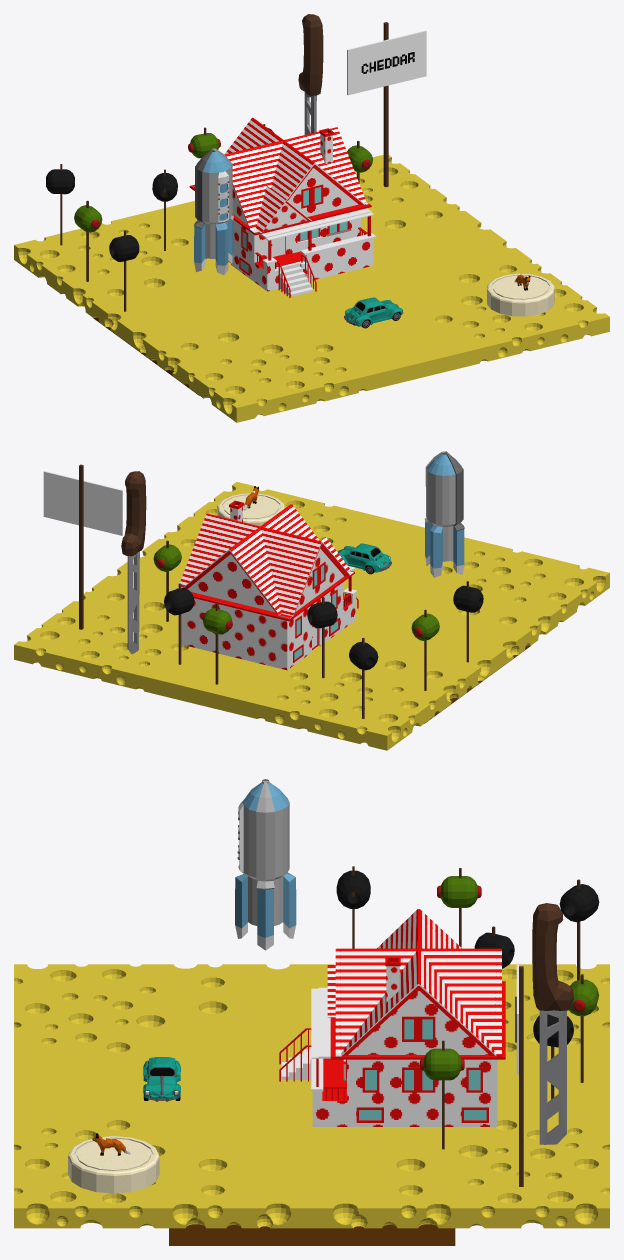
3 renders of one model, top to bottom at view 1: azimuth 30°, elevation 25°; view 2: azimuth 150°, elevation 25°; view 3: azimuth 270°, elevation 25°, orthographic. The views are drawn at different scales.
Visible parts, largest first — view 1: Cube.022, Cube.196, Cube.023, OBJRANDOM_ROCKETSHIP, Cylinder.016, Cube.024, VEHICLES_VOLKSWAGEN, Sphere.017, Sphere.016, Sphere.018, Sphere.020, Sphere.022 (+1 smaller); view 2: Cube.022, Cube.196, OBJRANDOM_ROCKETSHIP, Cube.023, Cube.024, Cylinder.016, VEHICLES_VOLKSWAGEN, Sphere.021, Sphere.022, Sphere.020, Sphere.017, Sphere.016 (+2 smaller); view 3: Cube.022, Cube.196, OBJRANDOM_ROCKETSHIP, Cube.024, UNDERGROUND_ART_PIECE_VAN_GOGH, Cylinder.016, VEHICLES_VOLKSWAGEN, Cube.023, Sphere.019, Sphere.016, Sphere.018, Sphere.017 (+3 smaller).
Boxes of the visible parts, x1,y1,x2,y2 form: Cube.022: (14, 155, 609, 422); Cube.196: (189, 117, 376, 297); Cube.023: (347, 22, 426, 187); OBJRANDOM_ROCKETSHIP: (194, 148, 233, 275); Cylinder.016: (487, 273, 554, 316); Cube.024: (298, 14, 323, 134); VEHICLES_VOLKSWAGEN: (344, 297, 403, 328); Sphere.017: (109, 230, 139, 311); Sphere.016: (46, 164, 74, 245); Sphere.018: (74, 200, 102, 281); Sphere.020: (152, 169, 177, 250); Sphere.022: (188, 127, 220, 158); Cube.022: (14, 482, 609, 750); Cube.196: (176, 500, 358, 670); OBJRANDOM_ROCKETSHIP: (424, 451, 464, 577); Cube.023: (43, 464, 122, 629); Cube.024: (121, 471, 146, 654); Cylinder.016: (217, 493, 284, 526); VEHICLES_VOLKSWAGEN: (338, 543, 391, 574); Sphere.021: (164, 583, 194, 664); Sphere.022: (202, 603, 232, 684); Sphere.020: (307, 597, 337, 678); Sphere.017: (453, 581, 483, 662); Sphere.016: (349, 637, 378, 718); Cube.022: (14, 964, 609, 1228); Cube.196: (279, 909, 505, 1126); OBJRANDOM_ROCKETSHIP: (235, 779, 296, 950); Cube.024: (532, 903, 573, 1144); UNDERGROUND_ART_PIECE_VAN_GOGH: (169, 1224, 455, 1245); Cylinder.016: (68, 1136, 159, 1193); VEHICLES_VOLKSWAGEN: (143, 1057, 180, 1101); Cube.023: (515, 962, 523, 1186); Sphere.019: (420, 1040, 464, 1149); Sphere.016: (559, 879, 599, 980); Sphere.018: (437, 868, 481, 947); Sphere.017: (336, 866, 370, 948).
Bounding box in the file's own units: 3917 × 2132 × 4000.
Materials: 34 (5 with a texture image).
